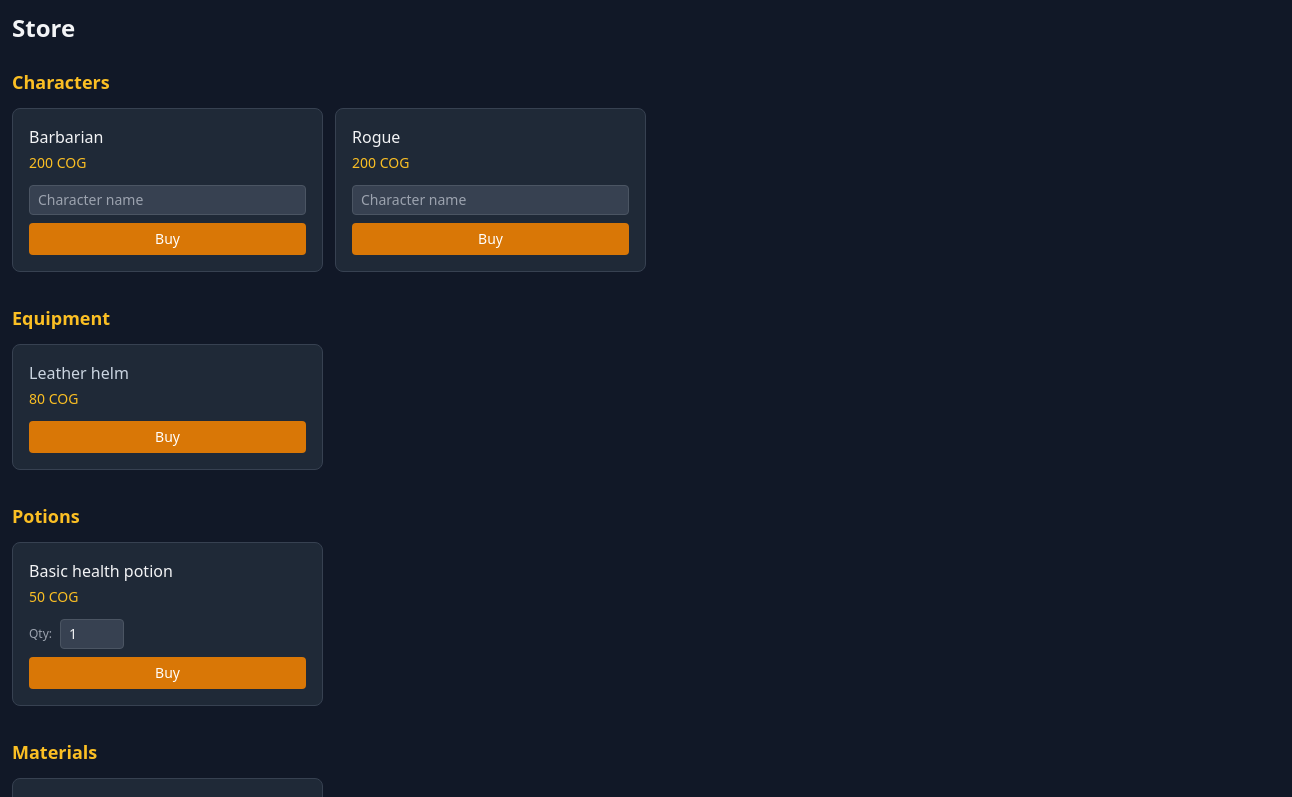
StorePage › shows error when purchasing without character name
This screenshot has width=1292, height=797.
Expected: the text "Barbarian" is shown, [29, 126, 103, 148]
Click the button "Buy" below "Barbarian".
click(168, 239)  # box [29, 223, 306, 255]
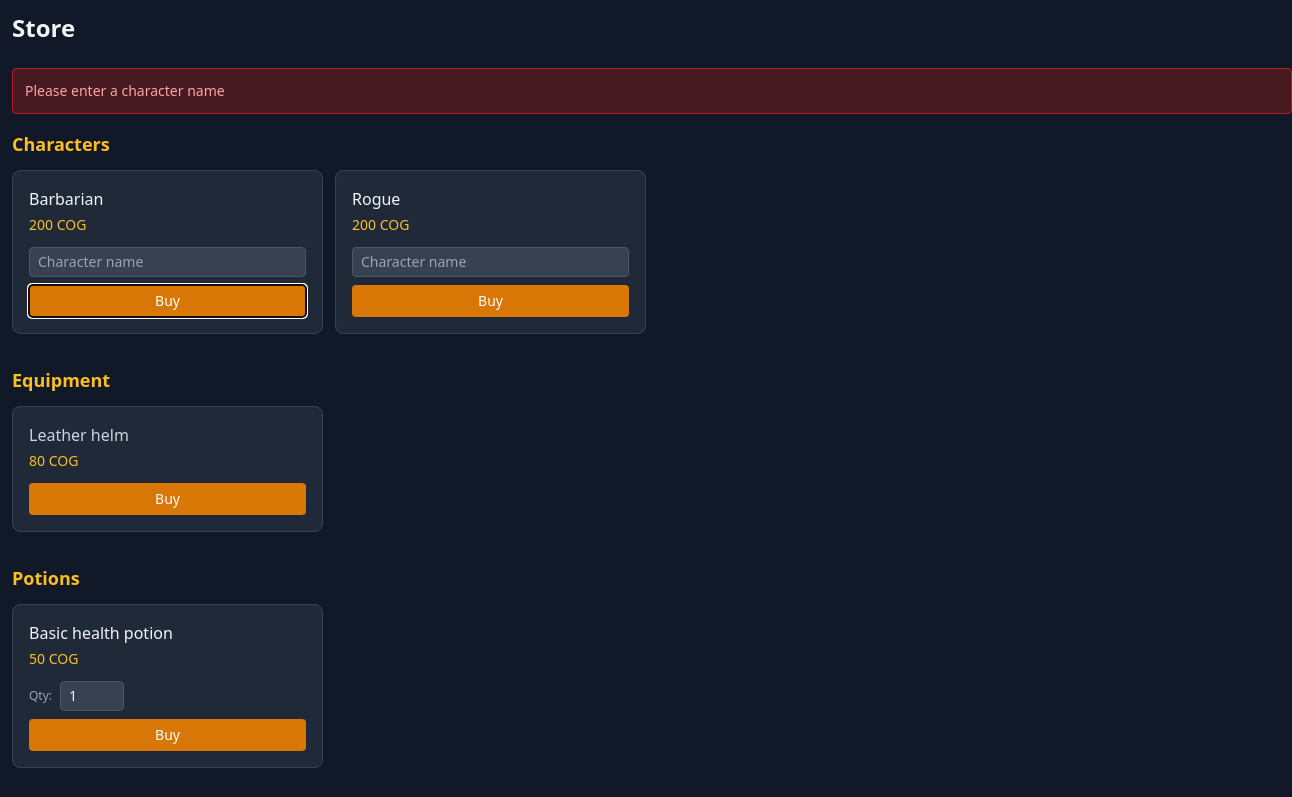
Now the text "Please enter a character name" is shown, box [12, 68, 1291, 114]
